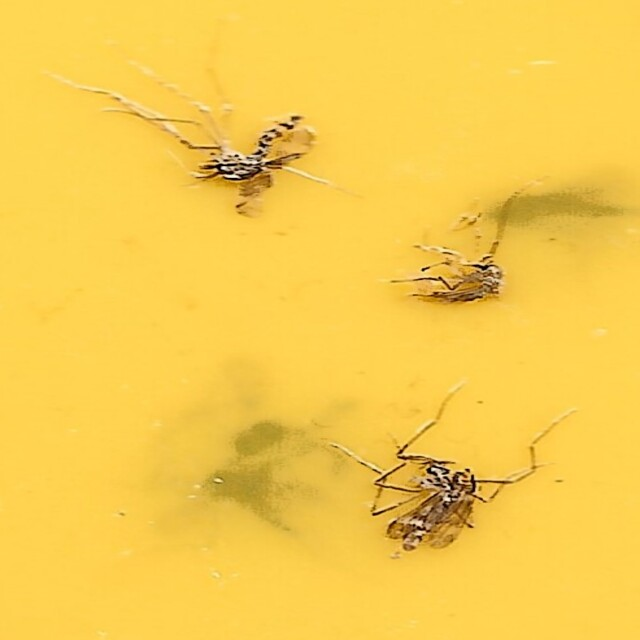Nematocera: (130, 84, 315, 224), (361, 440, 482, 556), (400, 240, 510, 309)
